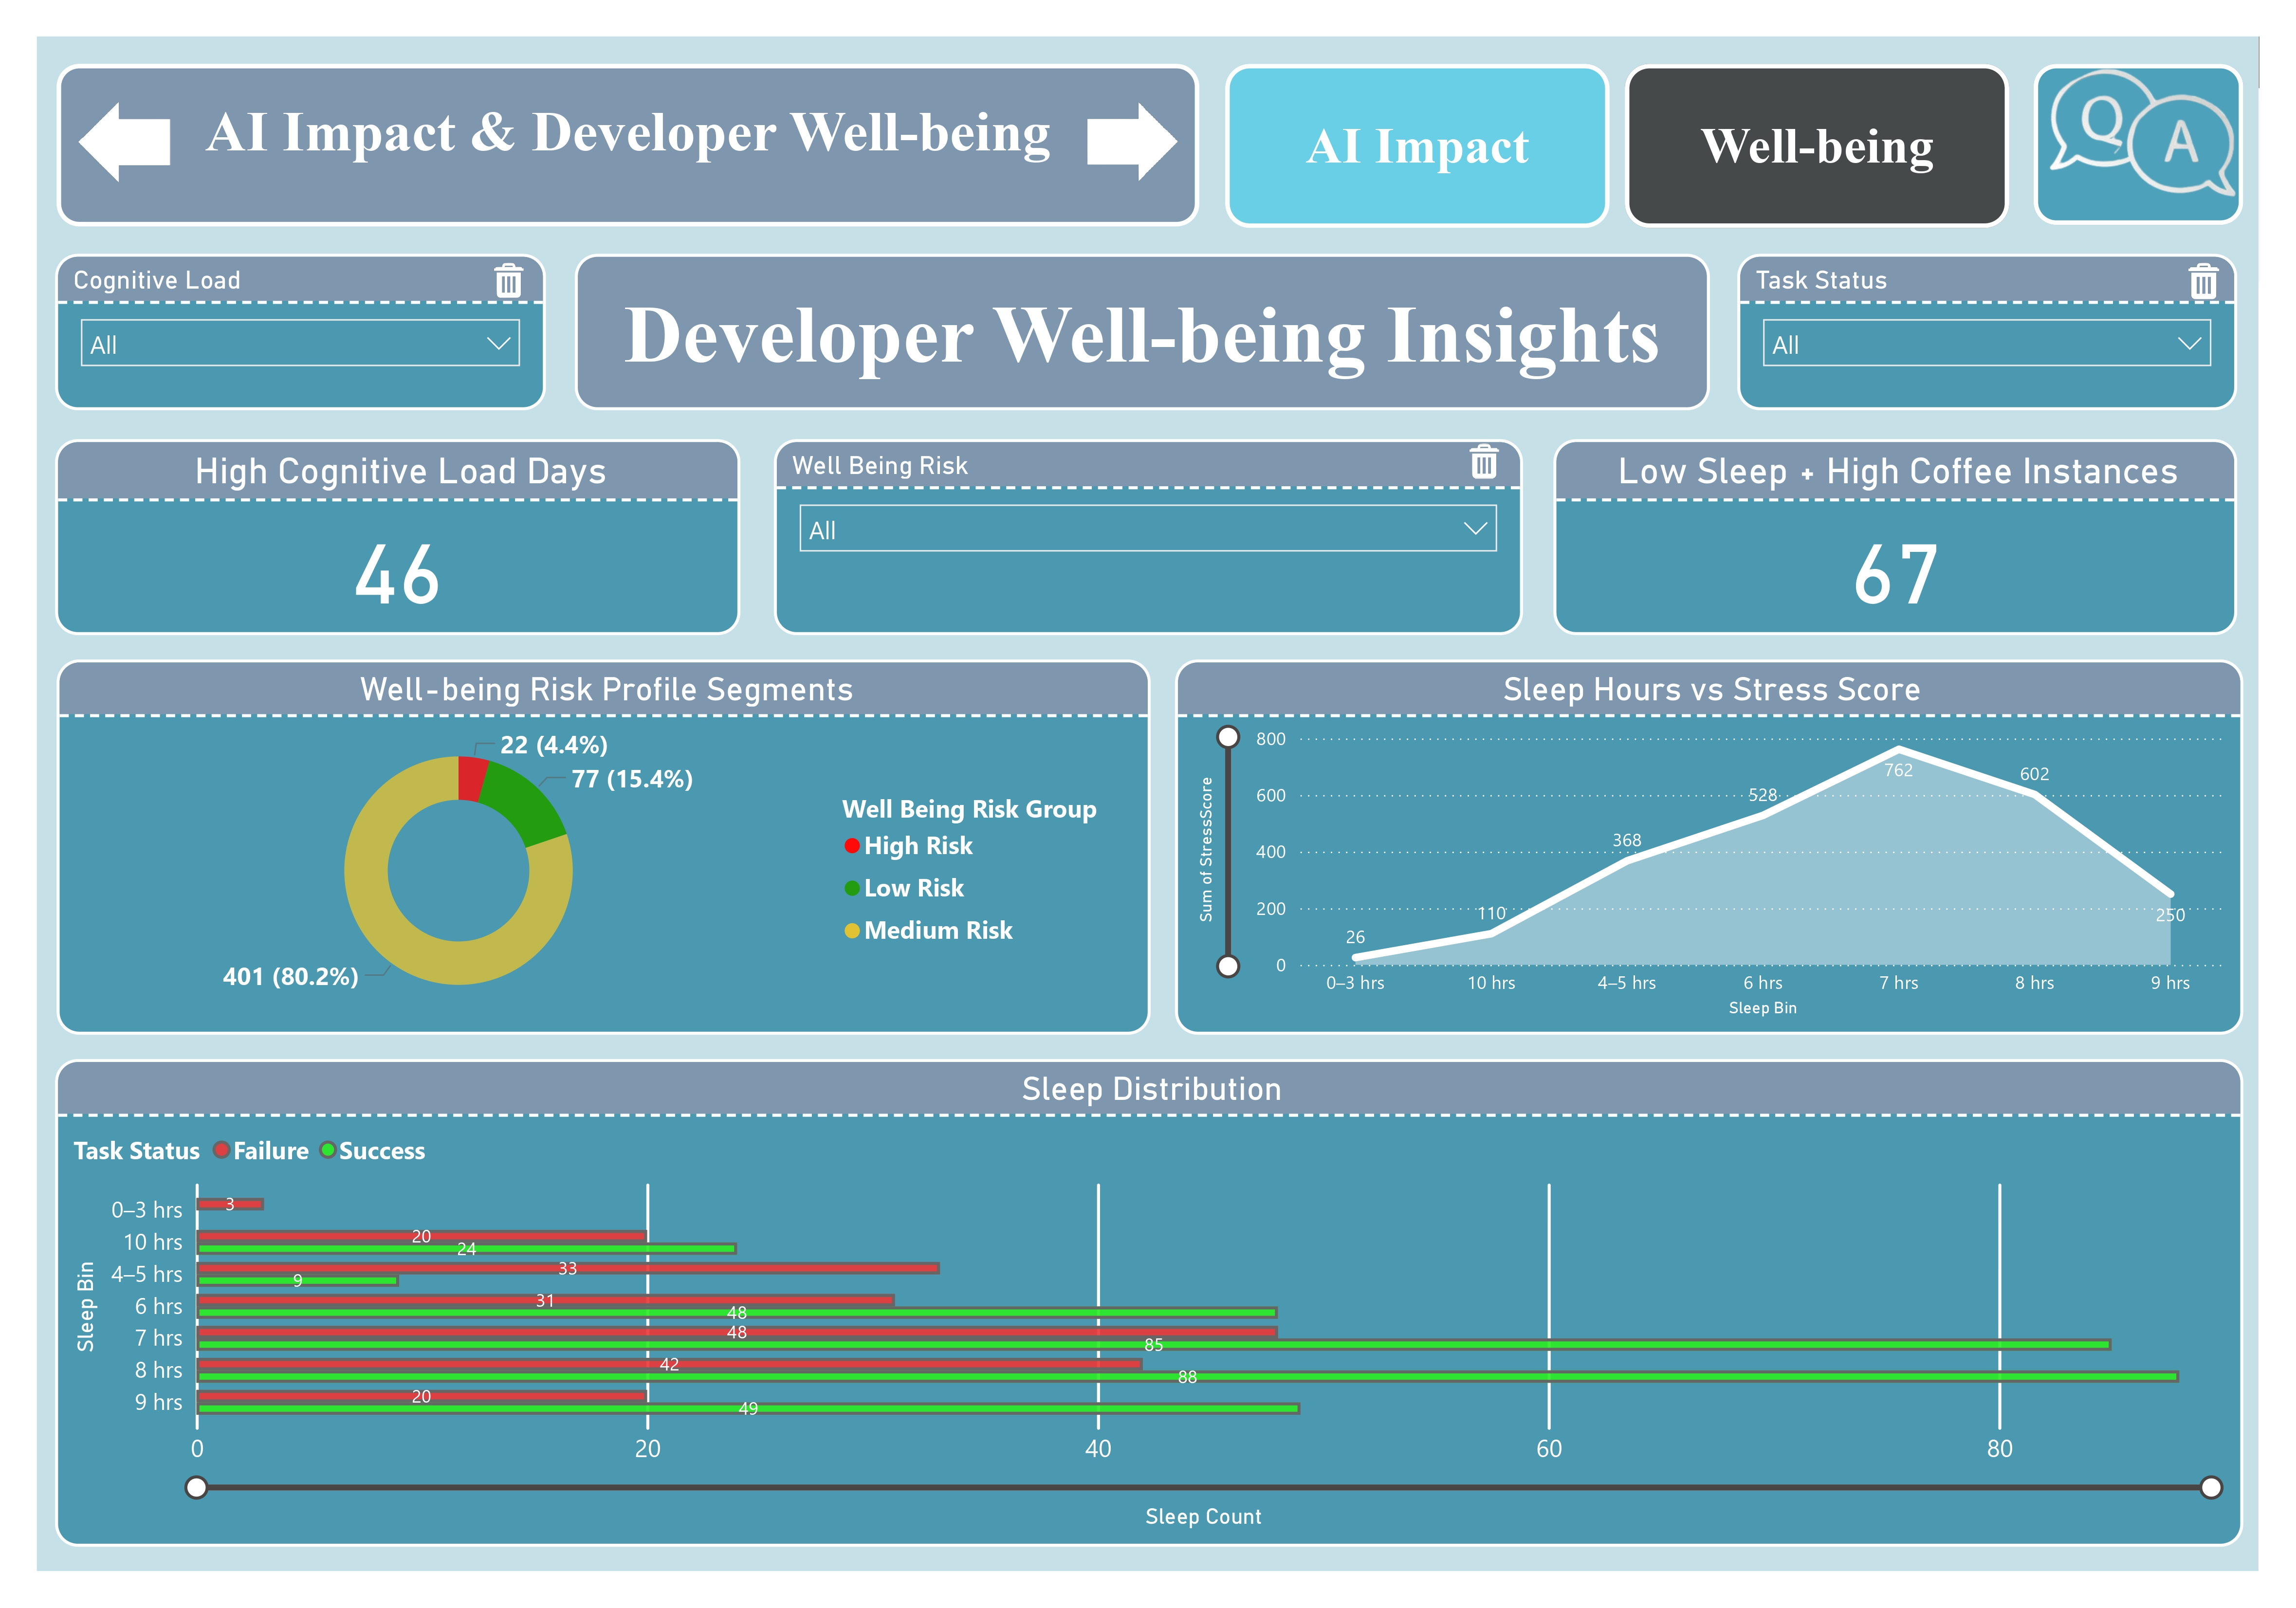

The dashboard page shown, as its layout file describes it:
{"tool":"powerbi","page":{"name":"AI Impact & Developer Well-being","canvas":[1462,1010],"ordinal":3},"visuals":[{"type":"textbox","box":[12.5,17.5,752.5,107.5],"z":0},{"type":"bookmarkNavigator","box":[782,18,516,108],"z":2000},{"type":"actionButton","box":[1314.2,17.5,137.5,106.7],"z":4000},{"type":"image","box":[0,34.3,113.6,70.7],"z":8000},{"type":"image","box":[664,34,114,70],"z":10000},{"type":"textbox","box":[353.5,143.4,747.4,103],"z":16000},{"type":"slicer","title":"Cognitive Load","fields":{"Values":["ai_dev_productivity (1).Cognitive Load Category"]},"box":[12.1,143.4,323.2,103],"z":17000},{"type":"slicer","title":"Well Being Risk","fields":{"Values":["ai_dev_productivity (1).WellBeingRisk"]},"box":[484.8,264.6,492.9,129.3],"z":18000},{"type":"slicer","title":"Task Status","fields":{"Values":["ai_dev_productivity (1).Task Status"]},"box":[1119.1,143.4,329.3,103],"z":19000},{"type":"clusteredBarChart","title":"Sleep Distribution","fields":{"Y":["ai_dev_productivity (1).Sleep Count"],"Category":["ai_dev_productivity (1).Sleep Bin"],"Series":["ai_dev_productivity (1).Task Status"]},"box":[12.1,672.7,1440.3,321.2],"z":20000},{"type":"donutChart","title":"Well-being Risk Profile Segments","fields":{"Category":["ai_dev_productivity (1).WellBeingRiskGroup"],"Y":["CountNonNull(ai_dev_productivity (1).WellBeingRiskGroup)"]},"box":[13.3,410,720,246.7],"z":21000},{"type":"lineChart","title":"Sleep Hours vs Stress Score","fields":{"Y":["Sum(ai_dev_productivity (1).StressScore)"],"Category":["ai_dev_productivity (1).Sleep Bin"]},"box":[748.9,410,703.3,246.7],"z":22000},{"type":"card","title":"High Cognitive Load Days","fields":{"Values":["ai_dev_productivity (1).High Load Days"]},"box":[12.1,264.6,450.5,129.3],"z":23000},{"type":"card","title":"Low Sleep + High Coffee Instances","fields":{"Values":["ai_dev_productivity (1).Low Sleep High Coffee"]},"box":[997.9,264.6,450.5,129.3],"z":24000},{"type":"image","box":[284.7,144,50,33.3],"z":25000},{"type":"image","box":[1401.2,143.8,50,33.8],"z":26000},{"type":"image","box":[927,263,50,33],"z":27000}]}

Visuals, with their boxes in screenshot pixels (x1, y1, x2, y2):
textbox: 55/63/1200/226
bookmarkNavigator: 1226/64/2010/228
actionButton: 2035/63/2244/225
image: 37/89/209/196
image: 1046/88/1219/195
textbox: 574/255/1710/411
"Cognitive Load" slicer: 55/255/546/411
"Well Being Risk" slicer: 773/439/1523/635
"Task Status" slicer: 1738/255/2239/411
"Sleep Distribution" clusteredBarChart: 55/1059/2245/1547
"Well-being Risk Profile Segments" donutChart: 57/659/1152/1035
"Sleep Hours vs Stress Score" lineChart: 1175/659/2244/1035
"High Cognitive Load Days" card: 55/439/740/635
"Low Sleep + High Coffee Instances" card: 1554/439/2239/635
image: 469/256/546/306
image: 2167/255/2243/307
image: 1446/436/1522/486
